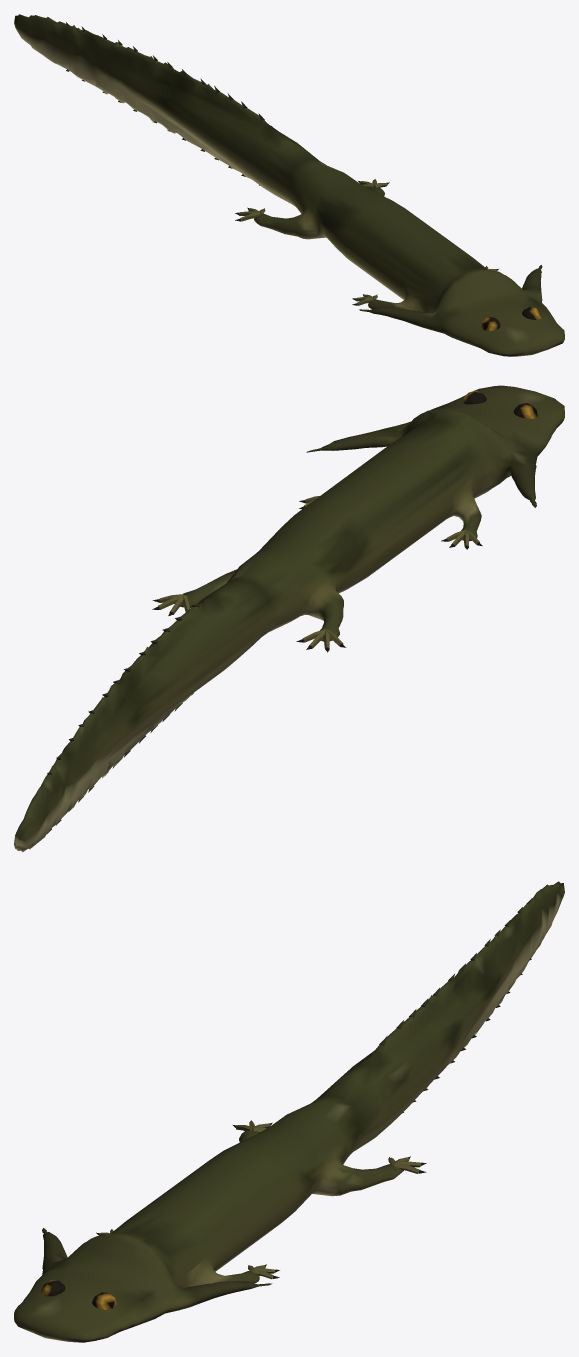
The model's file is Keraterpeton.fbx.
The picture shows the model from 3 angles, top to bottom: view 1: azimuth 30°, elevation 25°; view 2: azimuth 150°, elevation 25°; view 3: azimuth 330°, elevation 25°; orthographic projection. The views are drawn at different scales.
Visible parts, largest first — view 1: Keraterpeton; view 2: Keraterpeton; view 3: Keraterpeton.
Part boxes in pixels (<box>): Keraterpeton: <box>14,14,564,356</box>; Keraterpeton: <box>14,385,564,852</box>; Keraterpeton: <box>14,881,564,1342</box>.
Bounding box in the file's own units: 0.2514 × 0.0978 × 1.11.
